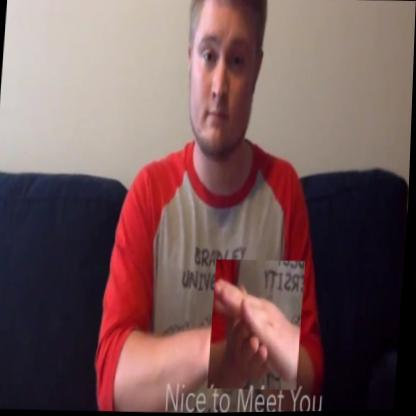NiceToMeetYou: (210, 259, 308, 392)
